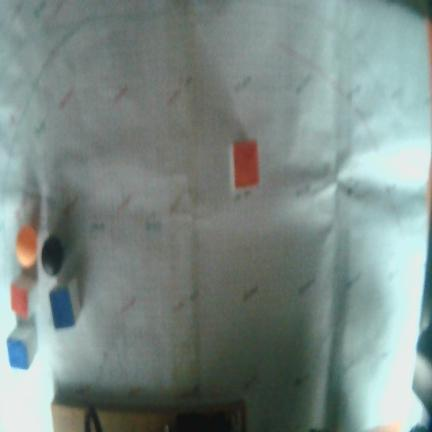circle_blue: (42, 235, 63, 275)
circle_orange: (16, 225, 37, 268)
rectangle_blue: (8, 337, 29, 366)
rectangle_orange: (10, 283, 30, 320)
square_blue: (49, 286, 77, 327)
square_orange: (233, 141, 259, 189)
